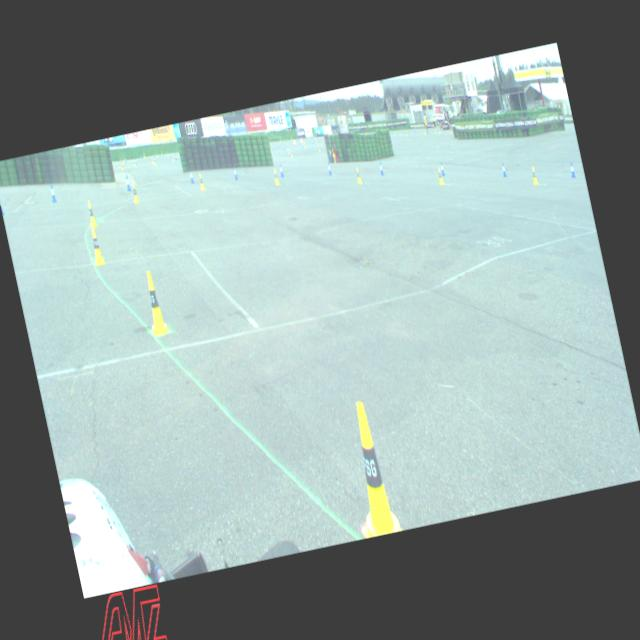blue_cone: (48, 182, 56, 202), (124, 173, 132, 191), (568, 161, 575, 177), (188, 168, 195, 184), (500, 161, 506, 177), (278, 162, 284, 178), (378, 162, 384, 176), (232, 166, 238, 180), (438, 162, 444, 176), (0, 195, 4, 214), (326, 162, 332, 174), (114, 160, 118, 167), (328, 147, 331, 156), (174, 154, 177, 160), (134, 158, 136, 165), (169, 152, 171, 156), (140, 154, 142, 158), (125, 156, 126, 162)
orange_cone: (122, 160, 125, 168), (120, 157, 122, 162)
yellow_cone: (335, 396, 402, 536), (139, 268, 170, 335), (87, 223, 105, 266), (84, 200, 98, 228), (130, 182, 139, 204), (529, 166, 538, 186), (436, 167, 444, 186), (197, 172, 205, 190), (272, 167, 279, 184), (355, 167, 362, 184), (152, 157, 156, 165), (132, 159, 136, 166), (151, 156, 154, 164), (120, 163, 123, 170), (116, 160, 119, 167), (177, 150, 180, 156), (318, 144, 320, 152), (172, 154, 174, 161), (153, 153, 155, 160), (320, 140, 322, 146), (142, 152, 144, 158), (290, 150, 292, 156), (166, 152, 168, 157), (122, 157, 124, 161), (315, 138, 317, 142), (434, 128, 436, 132), (304, 144, 305, 148)
